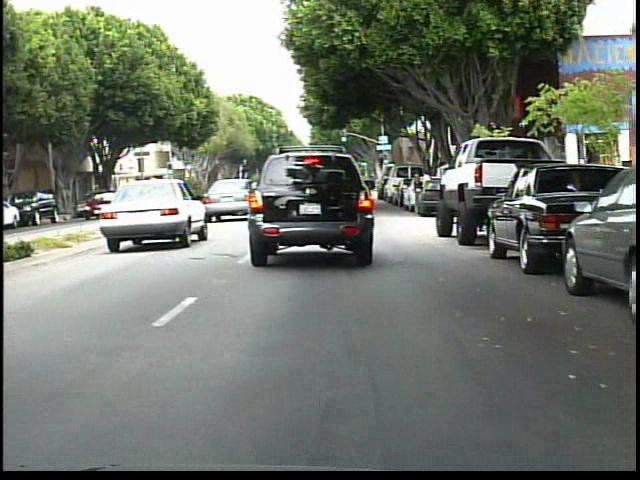person: (410, 170, 424, 219), (418, 167, 433, 208)
